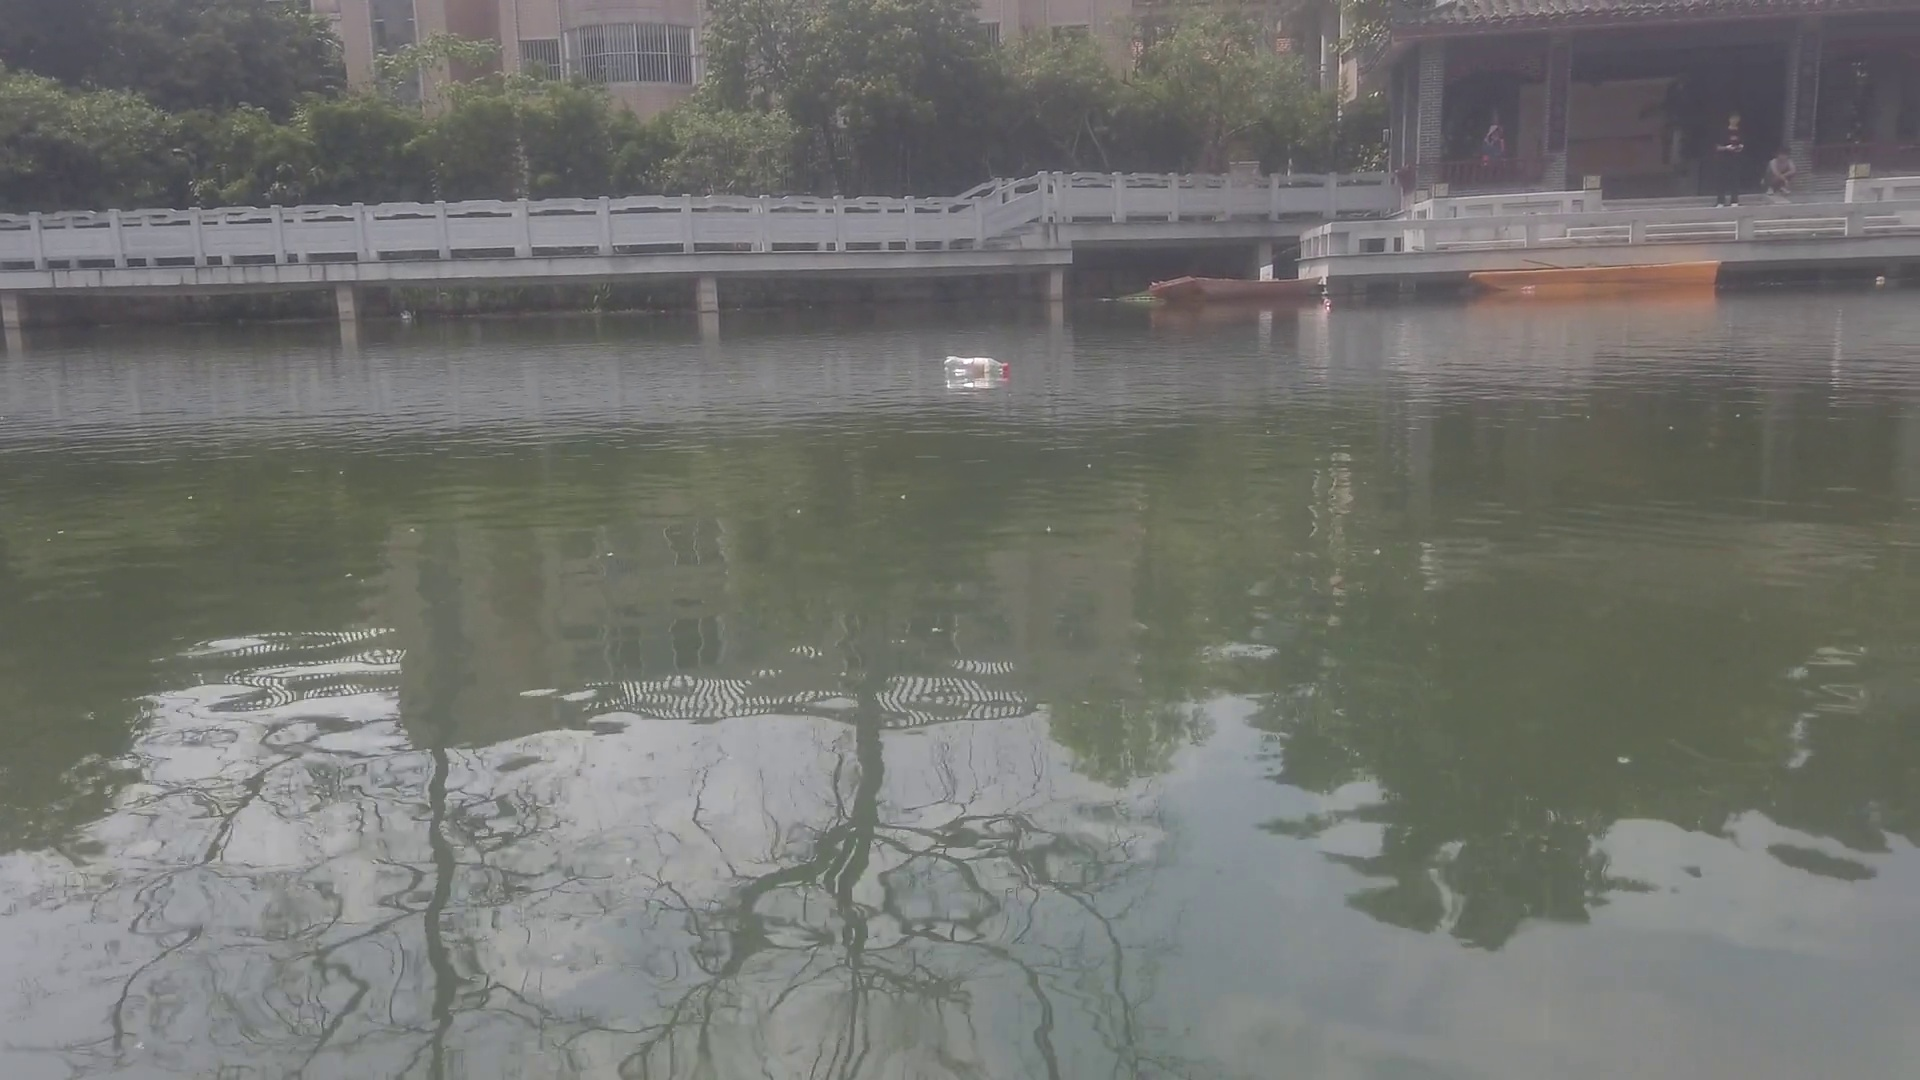bottle: (942, 353, 1011, 376), (1320, 293, 1340, 307), (1518, 284, 1536, 298), (1873, 274, 1884, 284)
